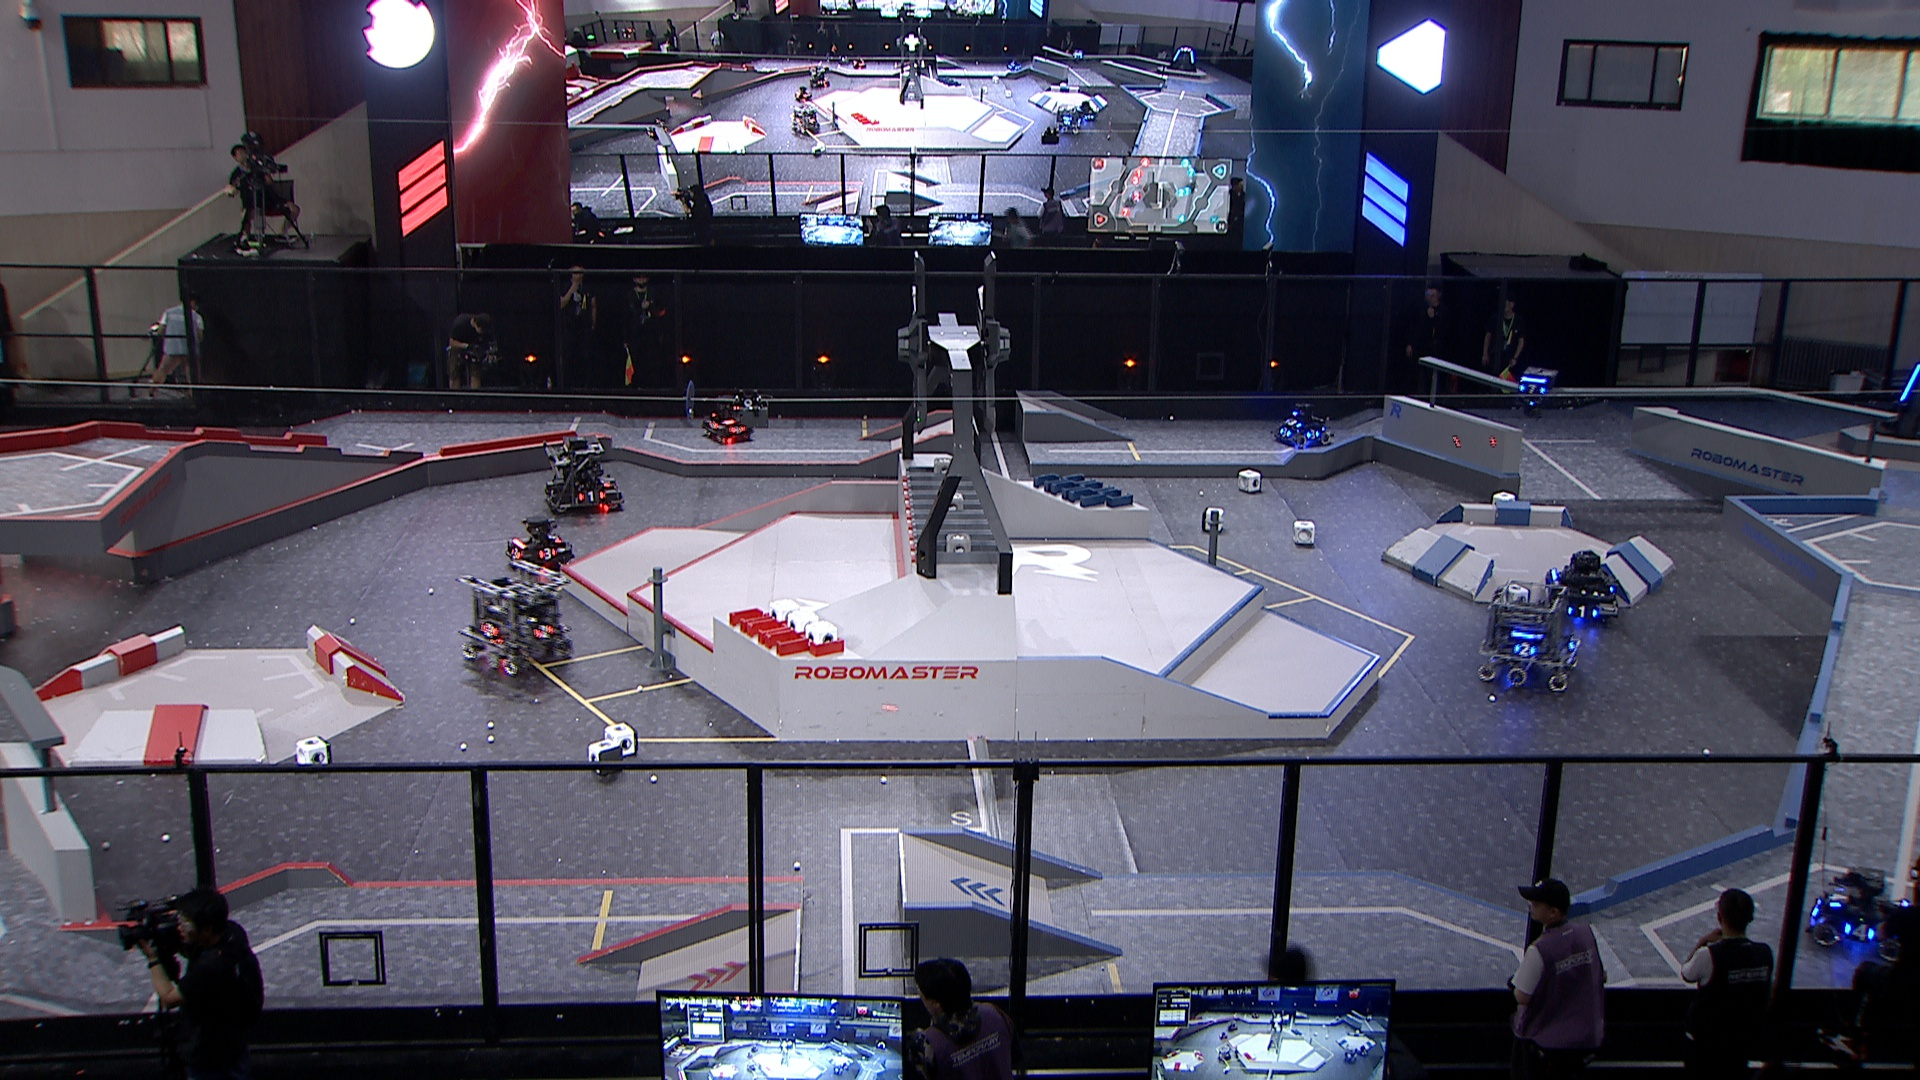armor: (1898, 360, 1920, 400), (1844, 920, 1875, 943), (1825, 889, 1850, 911), (1565, 603, 1600, 618), (1513, 641, 1542, 659), (576, 489, 608, 504), (531, 622, 556, 638), (479, 618, 498, 638), (1519, 384, 1547, 396), (535, 547, 558, 560), (546, 531, 564, 546), (1283, 417, 1304, 429), (727, 423, 746, 434), (1276, 425, 1292, 438), (509, 546, 522, 560), (1304, 429, 1321, 439), (705, 419, 719, 429)
base: (1878, 352, 1920, 442)
car: (452, 556, 578, 678), (1477, 575, 1588, 698), (1807, 866, 1916, 960), (539, 431, 626, 516), (1542, 549, 1621, 626), (501, 513, 578, 571), (1266, 400, 1335, 450), (702, 400, 752, 442)
ignore: (1167, 44, 1201, 73), (789, 105, 820, 135), (1055, 107, 1084, 135), (642, 115, 667, 140)
watcher: (1516, 367, 1561, 415)
